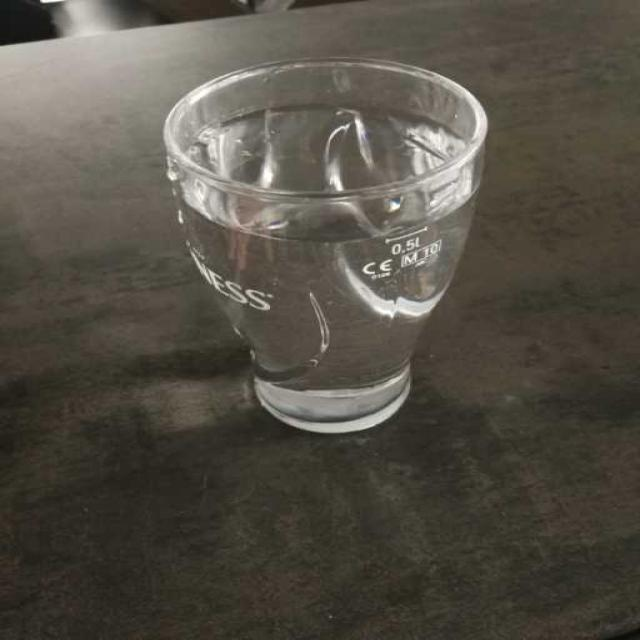water: (174, 107, 455, 413)
